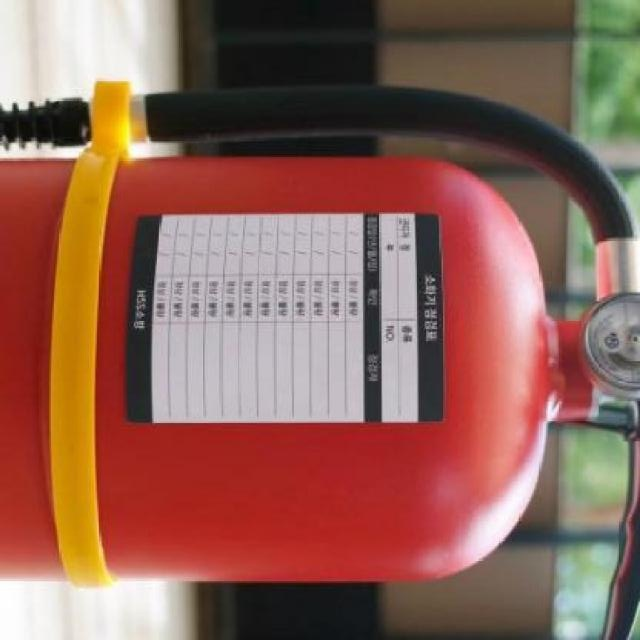fire extinguisher: (0, 78, 640, 640)
